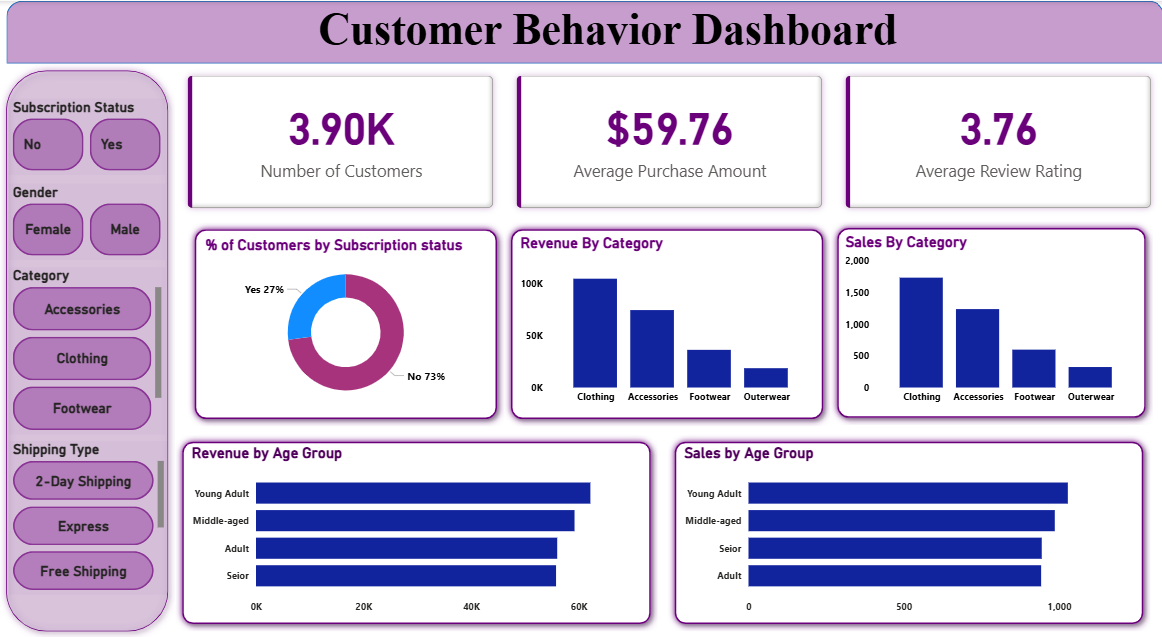

This screenshot's page, from the dashboard's own definition file:
{"tool":"powerbi","page":{"name":"Page 1","canvas":[1500,820],"ordinal":0},"visuals":[{"type":"cardVisual","fields":{"Data":["public customer.Number of Customers","public customer.Average Purchase Amount","public customer.Average Review Rating"]},"box":[226.7,80.4,1273.6,175.3],"z":0},{"type":"shape","box":[9.6,0,1490.7,80.4],"z":1000},{"type":"textbox","box":[65.9,0,1434.4,80.4],"z":2000},{"type":"shape","box":[242.8,255.7,406.8,244.4],"z":3000},{"type":"donutChart","title":"% of Customers by Subscription status","fields":{"Category":["public customer.subscription_status"],"Y":["CountNonNull(public customer.customer_id)"]},"box":[260.5,270.2,371.5,215.5],"z":4000},{"type":"shape","box":[1069.4,255.7,414.9,244.4],"z":5000},{"type":"shape","box":[649.7,255.7,419.7,244.4],"z":6000},{"type":"clusteredColumnChart","title":"Revenue By Category","fields":{"Y":["Sum(public customer.purchase_amount_usd)"],"Category":["public customer.category"]},"box":[667.3,270.2,385.9,215.5],"z":7000},{"type":"clusteredColumnChart","title":"Sales By Category","fields":{"Y":["CountNonNull(public customer.customer_id)"],"Category":["public customer.category"]},"box":[1083.8,270.2,384.3,215.5],"z":8000},{"type":"shape","box":[0,80.4,226.7,739.7],"z":9000},{"type":"advancedSlicerVisual","fields":{"Values":["public customer.subscription_status"]},"box":[12.9,125.4,201,98.1],"z":10000},{"type":"advancedSlicerVisual","fields":{"Values":["public customer.gender"]},"box":[12.9,234.8,201,98.1],"z":11000},{"type":"advancedSlicerVisual","fields":{"Values":["public customer.category"]},"box":[12.9,342.5,201,215.5],"z":12000},{"type":"advancedSlicerVisual","fields":{"Values":["public customer.shipping_type"]},"box":[12.9,566,204.2,197.8],"z":13000},{"type":"shape","box":[242.8,519.4,620.7,244.4],"z":13001},{"type":"clusteredBarChart","title":"Revenue by Age Group","fields":{"Y":["Sum(public customer.purchase_amount_usd)"],"Category":["public customer.age_group"]},"box":[257.3,535.5,588.6,213.9],"z":13002},{"type":"shape","box":[863.5,519.4,620.7,244.4],"z":13003},{"type":"clusteredBarChart","title":"Sales by Age Group","fields":{"Category":["public customer.age_group"],"Y":["CountNonNull(public customer.customer_id)"]},"box":[879.6,535.5,588.6,213.9],"z":13004}]}

Visuals, with their boxes in screenshot pixels (x1, y1, x2, y2), scaled from the page's 1500x820 canvas onto the 1162x637 screenshot:
cardVisual - public customer.Number of Customers x public customer.Average Purchase Amount: 176/62/1161/199
shape: 7/0/1161/62
textbox: 51/0/1161/62
shape: 188/199/503/388
"% of Customers by Subscription status" donutChart: 202/210/490/377
shape: 828/199/1150/388
shape: 503/199/828/388
"Revenue By Category" clusteredColumnChart: 517/210/816/377
"Sales By Category" clusteredColumnChart: 840/210/1137/377
shape: 0/62/176/636
advancedSlicerVisual - public customer.subscription_status: 10/97/166/174
advancedSlicerVisual - public customer.gender: 10/182/166/259
advancedSlicerVisual - public customer.category: 10/266/166/433
advancedSlicerVisual - public customer.shipping_type: 10/440/168/593
shape: 188/403/669/593
"Revenue by Age Group" clusteredBarChart: 199/416/655/582
shape: 669/403/1150/593
"Sales by Age Group" clusteredBarChart: 681/416/1137/582
